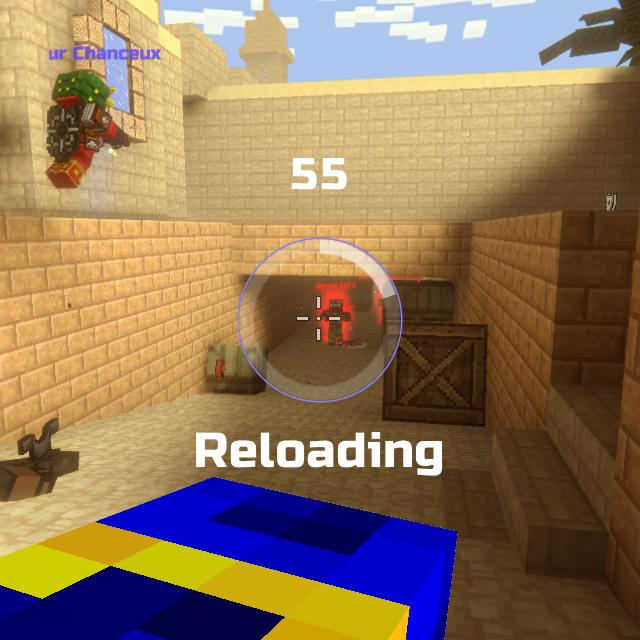Enemy: (320, 299, 350, 345), (378, 290, 384, 322)
